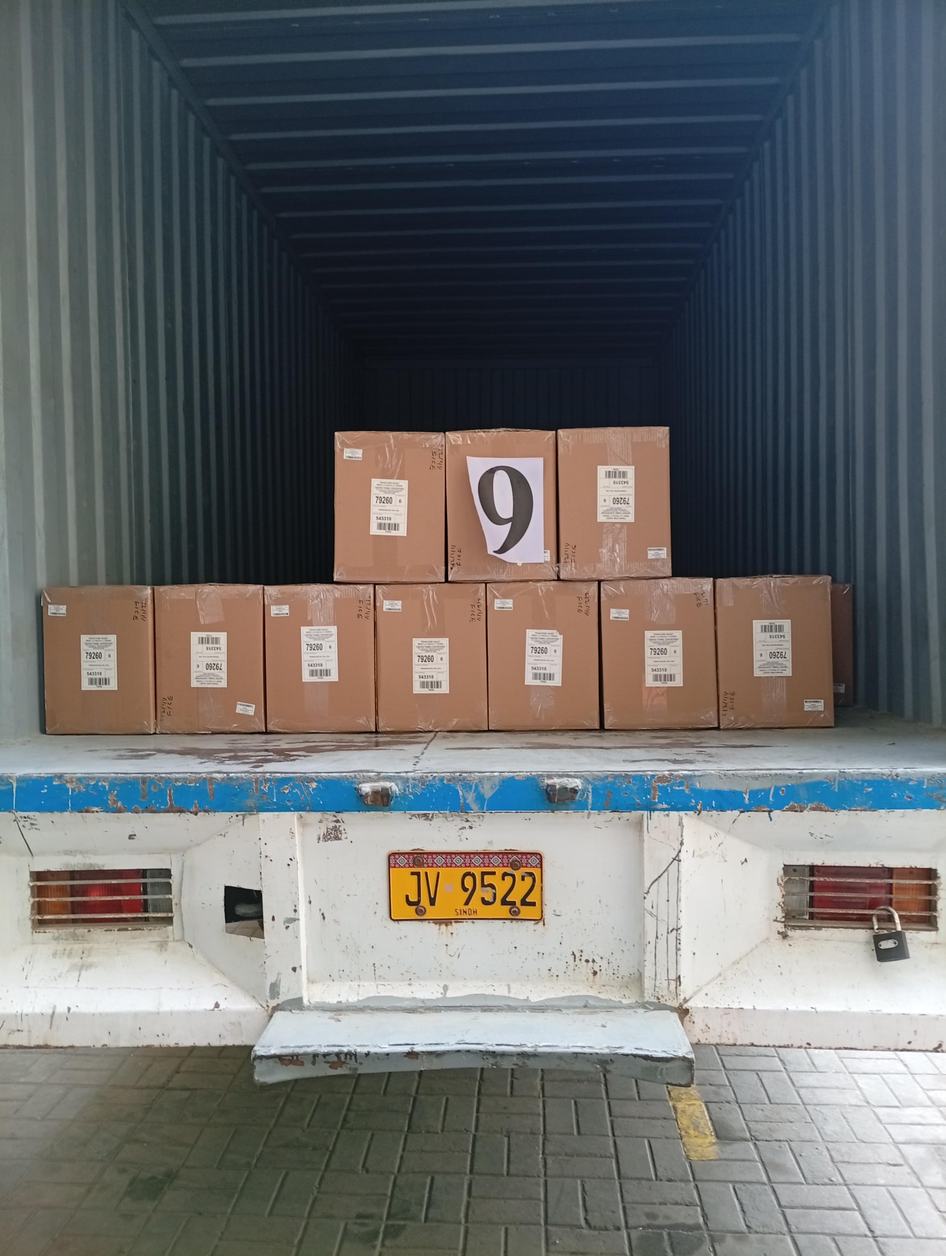carton: (716, 576, 834, 728), (600, 578, 718, 729), (557, 427, 672, 580), (446, 429, 558, 581), (334, 432, 446, 583), (486, 582, 600, 730), (42, 586, 156, 734), (264, 584, 376, 733), (375, 584, 487, 732), (154, 584, 265, 733)
